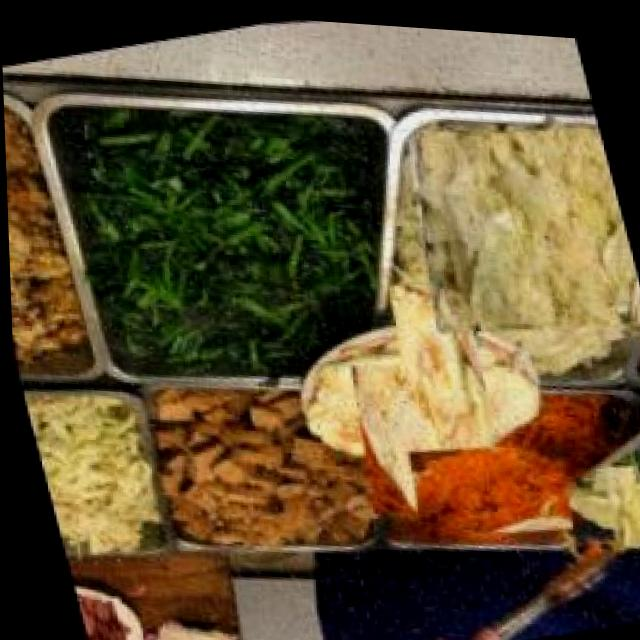carrot_eggs: (394, 407, 581, 555)
chinese_cabbage: (387, 82, 640, 364), (584, 453, 640, 537)
chinese_sausage: (69, 580, 126, 640)
fried_eggs: (297, 268, 539, 516)
water_spinach: (46, 47, 427, 422), (618, 422, 640, 474)
